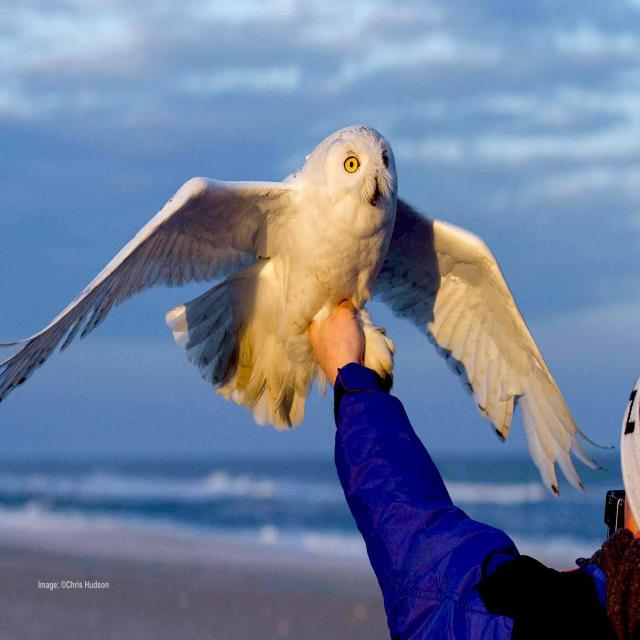Owl: (0, 119, 597, 459)
